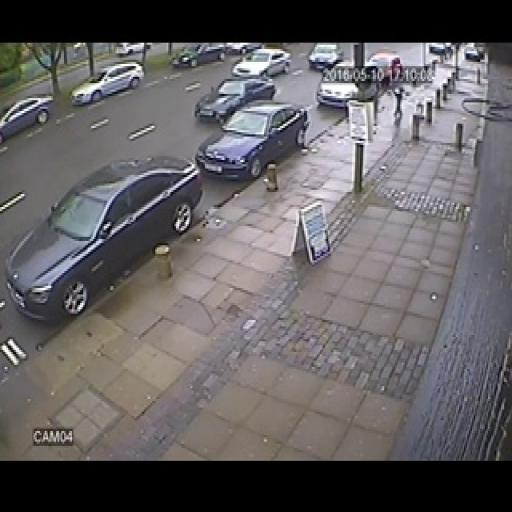Car: (14, 151, 202, 320), (197, 100, 308, 181), (194, 75, 275, 124), (317, 60, 381, 112), (72, 61, 144, 104), (1, 95, 54, 146), (232, 48, 291, 79), (172, 43, 226, 69), (367, 52, 403, 84), (308, 44, 344, 72), (114, 42, 150, 56), (224, 43, 262, 56), (428, 43, 454, 58), (464, 44, 484, 62)
Motor: (193, 73, 309, 185)
